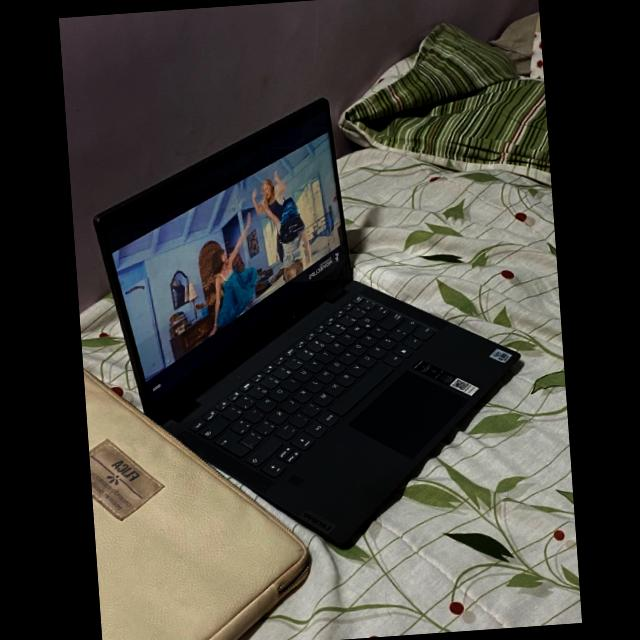laptop: (94, 98, 518, 543)
